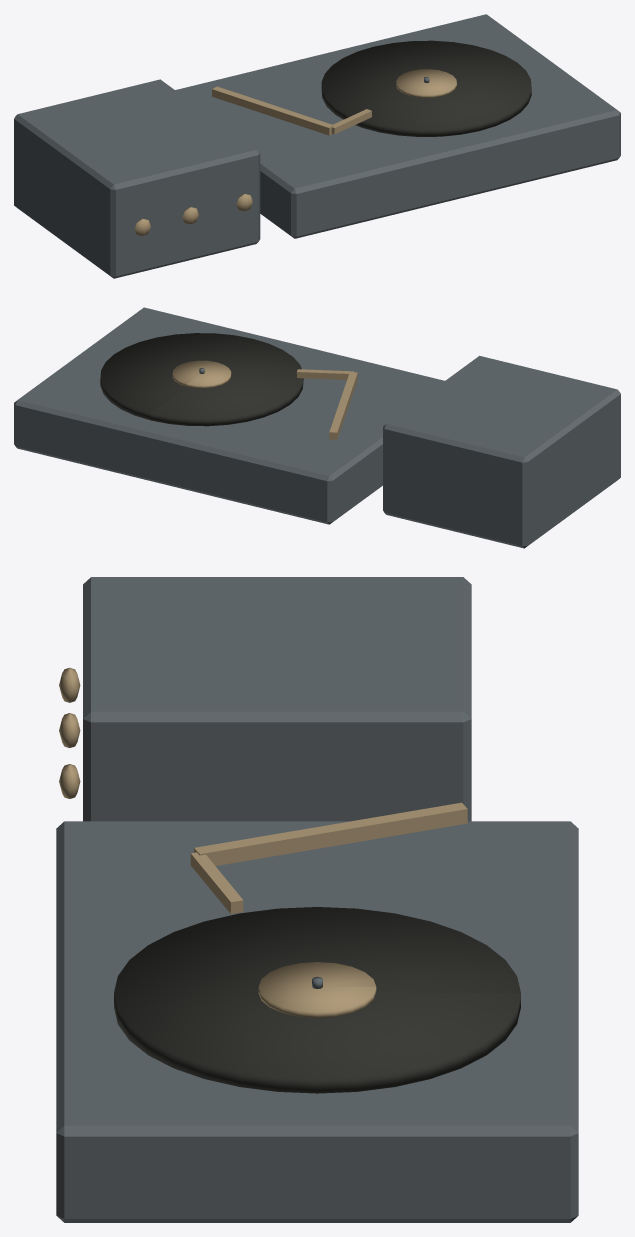
File: yokocho-turntable-amplifier.glb
The picture shows the model from 3 angles, top to bottom: view 1: azimuth 30°, elevation 25°; view 2: azimuth 150°, elevation 25°; view 3: azimuth 270°, elevation 25°; orthographic projection. The views are drawn at different scales.
Parts seen in each view (by area): view 1: Shops/S07/Personality/TurntableAndAmplifier__Iron, Shops/S07/Personality/TurntableAndAmplifier__Night_SpeakerCo, Shops/S07/Personality/TurntableAndAmplifier__Bronze; view 2: Shops/S07/Personality/TurntableAndAmplifier__Iron, Shops/S07/Personality/TurntableAndAmplifier__Night_SpeakerCo, Shops/S07/Personality/TurntableAndAmplifier__Bronze; view 3: Shops/S07/Personality/TurntableAndAmplifier__Iron, Shops/S07/Personality/TurntableAndAmplifier__Night_SpeakerCo, Shops/S07/Personality/TurntableAndAmplifier__Bronze.
Part boxes in pixels (<box>): Shops/S07/Personality/TurntableAndAmplifier__Iron: <box>14,14,620,278</box>; Shops/S07/Personality/TurntableAndAmplifier__Night_SpeakerCo: <box>321,40,531,136</box>; Shops/S07/Personality/TurntableAndAmplifier__Bronze: <box>134,69,456,236</box>; Shops/S07/Personality/TurntableAndAmplifier__Iron: <box>14,307,620,548</box>; Shops/S07/Personality/TurntableAndAmplifier__Night_SpeakerCo: <box>100,333,303,426</box>; Shops/S07/Personality/TurntableAndAmplifier__Bronze: <box>172,360,357,439</box>; Shops/S07/Personality/TurntableAndAmplifier__Iron: <box>56,577,578,1222</box>; Shops/S07/Personality/TurntableAndAmplifier__Night_SpeakerCo: <box>114,907,520,1093</box>; Shops/S07/Personality/TurntableAndAmplifier__Bronze: <box>59,667,467,1017</box>.
Size of the model in its own units: 0.84 by 0.15 by 0.39.
